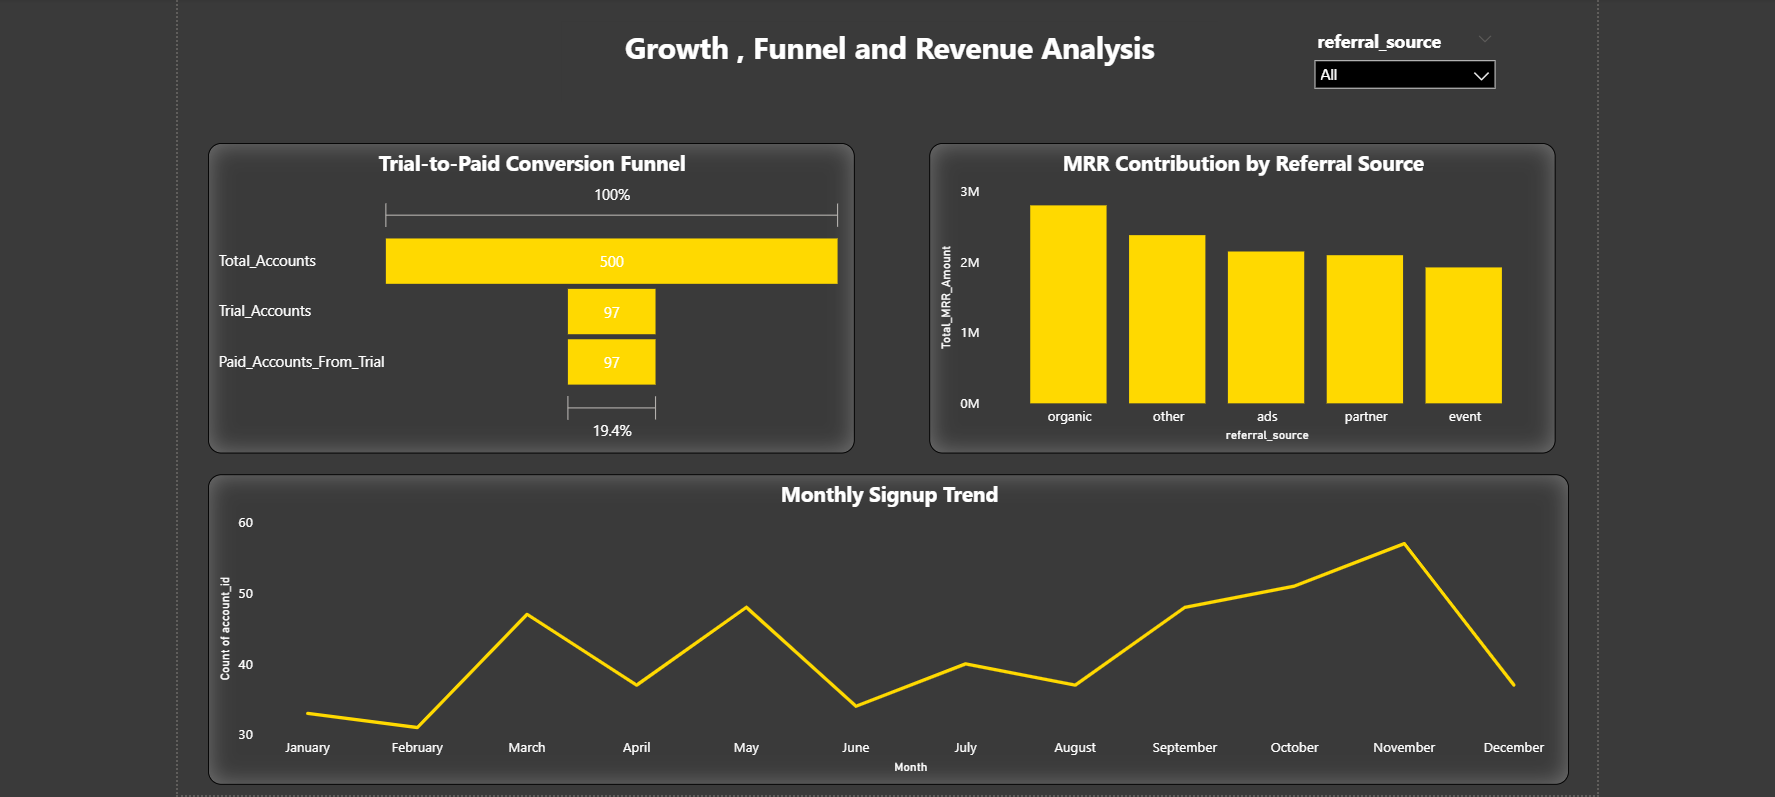

What the dashboard file says about the page in this screenshot:
{"tool":"powerbi","page":{"name":"Growth ,Funnel and Revenue Analysis","canvas":[1280,720],"ordinal":1},"visuals":[{"type":"lineChart","title":"Monthly Signup Trend","fields":{"Category":["public accounts.signup_date.Variation.Date Hierarchy.Month"],"Y":["CountNonNull(public accounts.account_id)"]},"box":[26.5,429,1227.5,279.9],"z":0},{"type":"funnel","title":"Trial-to-Paid Conversion Funnel","fields":{"Y":["public accounts.Total_Accounts","public accounts.Trial_Accounts","public accounts.Paid_Accounts_From_Trial"]},"box":[26.5,130.9,583.1,279.9],"z":1000},{"type":"columnChart","title":"MRR Contribution by Referral Source","fields":{"Y":["public accounts.Total_MRR_Amount"],"Category":["public accounts.referral_source"]},"box":[677.5,130.9,564.9,279.9],"z":2000},{"type":"textbox","box":[346.3,21.6,591.5,72.1],"z":3000},{"type":"slicer","fields":{"Values":["public accounts.referral_source"]},"box":[1014.3,23.1,183.2,70.7],"z":3001}]}

Visuals, with their boxes on the page's 1280x720 design canvas (x1, y1, x2, y2). These are canvas units, not pixel positions in the 1775x797 screenshot, which may show the page scaled, cropped or inside an application window:
"Monthly Signup Trend" lineChart: select_region(26, 429, 1254, 709)
"Trial-to-Paid Conversion Funnel" funnel: select_region(26, 131, 610, 411)
"MRR Contribution by Referral Source" columnChart: select_region(678, 131, 1242, 411)
textbox: select_region(346, 22, 938, 94)
slicer - public accounts.referral_source: select_region(1014, 23, 1198, 94)
